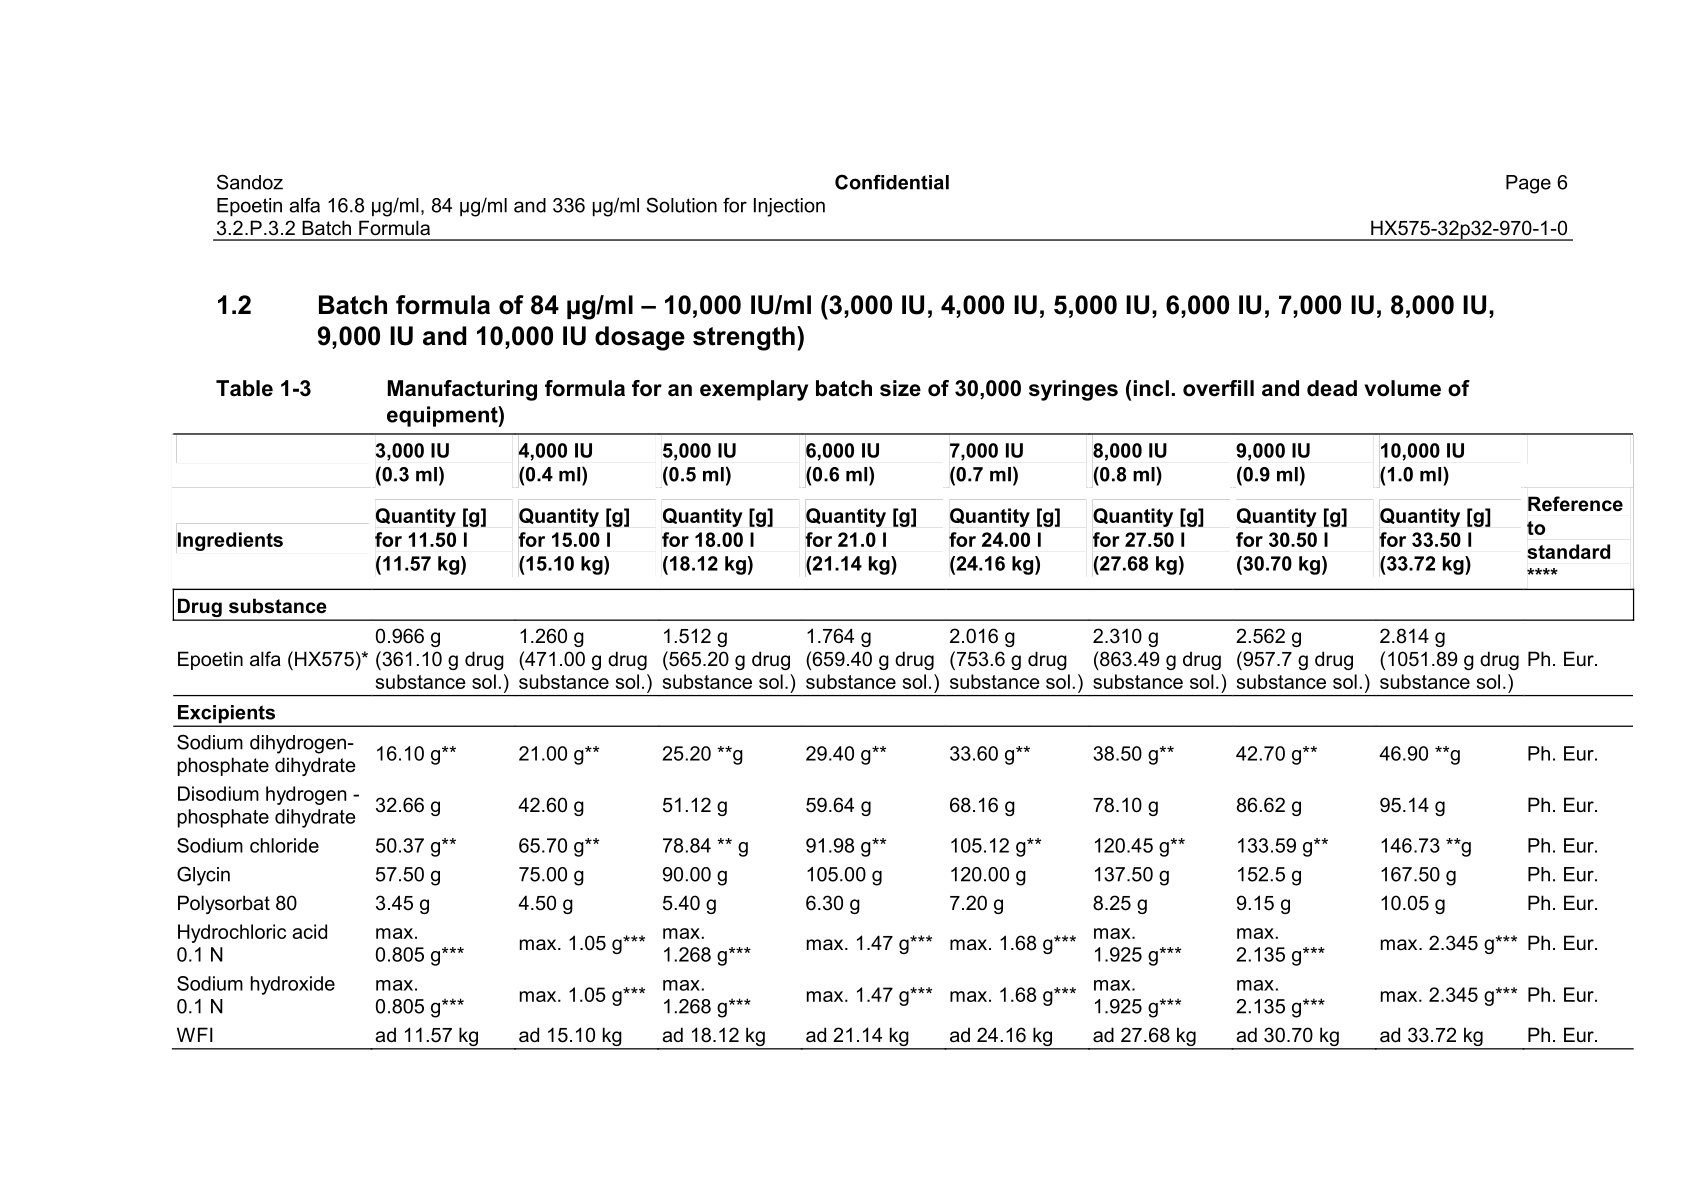partial_lined: (170, 432, 1635, 1052)
